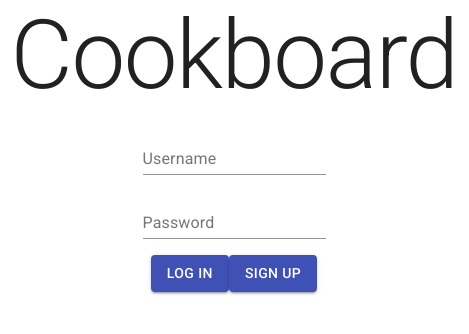
Test case: tests for LoginWindow. › With no user credentials stored › if the username is cleared an error message is displayed
Type "AbidAli" into the field with test id "inputUsername" at (234, 159), box [142,143,326,175]
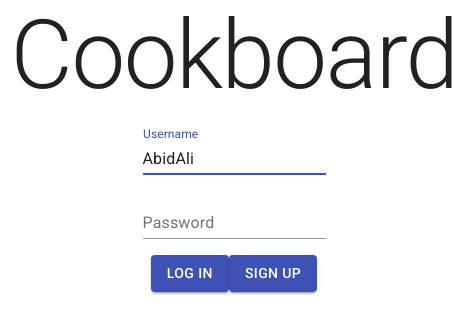
Clear the field with test id "inputUsername" at (234, 159), box [142,143,326,175]
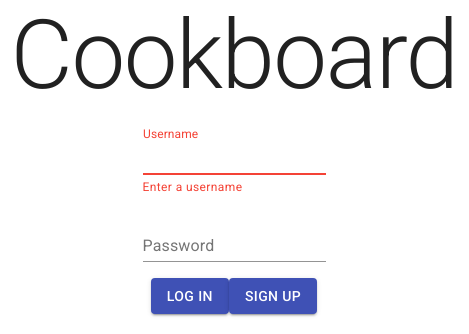
Expected: the text "Enter a username" is shown, [142,180,242,194]
